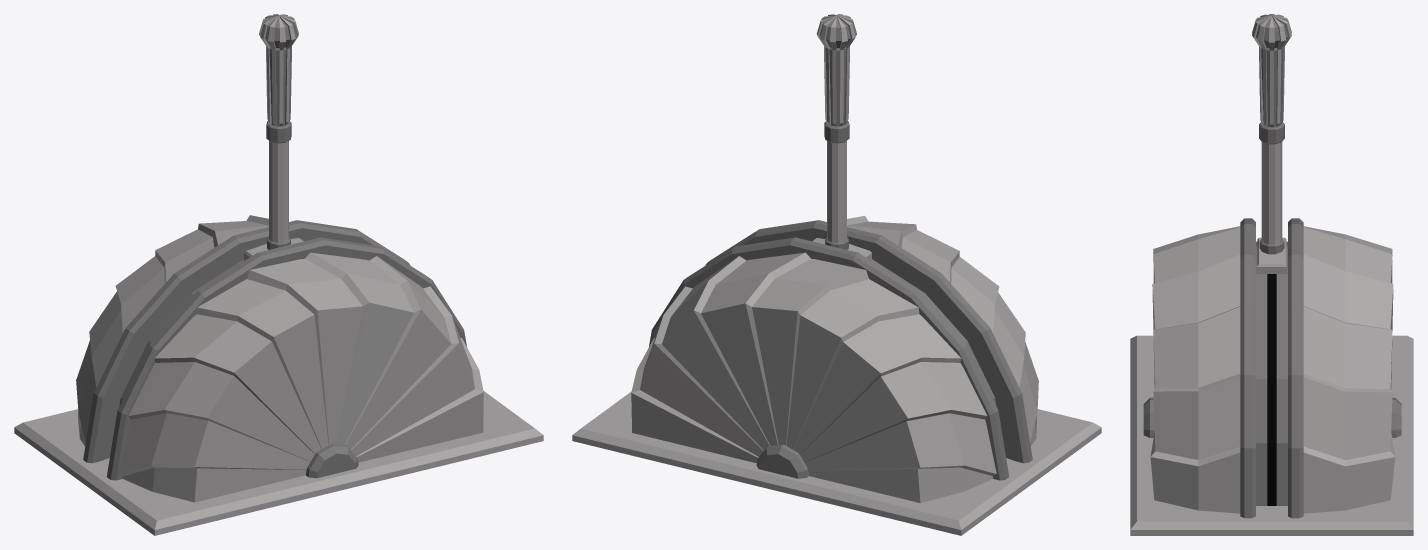
Rendered from MetalFloorLever_2.fbx.
3 renders of one model, left to right at view 1: azimuth 30°, elevation 25°; view 2: azimuth 150°, elevation 25°; view 3: azimuth 270°, elevation 25°, orthographic.
Visible parts, largest first — view 1: MetalFloorLever_2_Casing, MetalFloorLever_2_Handle; view 2: MetalFloorLever_2_Casing, MetalFloorLever_2_Handle; view 3: MetalFloorLever_2_Casing, MetalFloorLever_2_Handle.
Boxes of the visible parts, x1,y1,x2,y2 form: MetalFloorLever_2_Casing: [14, 215, 543, 535]; MetalFloorLever_2_Handle: [244, 14, 303, 260]; MetalFloorLever_2_Casing: [572, 216, 1101, 535]; MetalFloorLever_2_Handle: [812, 14, 871, 260]; MetalFloorLever_2_Casing: [1130, 218, 1413, 535]; MetalFloorLever_2_Handle: [1252, 14, 1291, 273].
Bounding box in the file's own units: 160 × 166 × 99.98.
